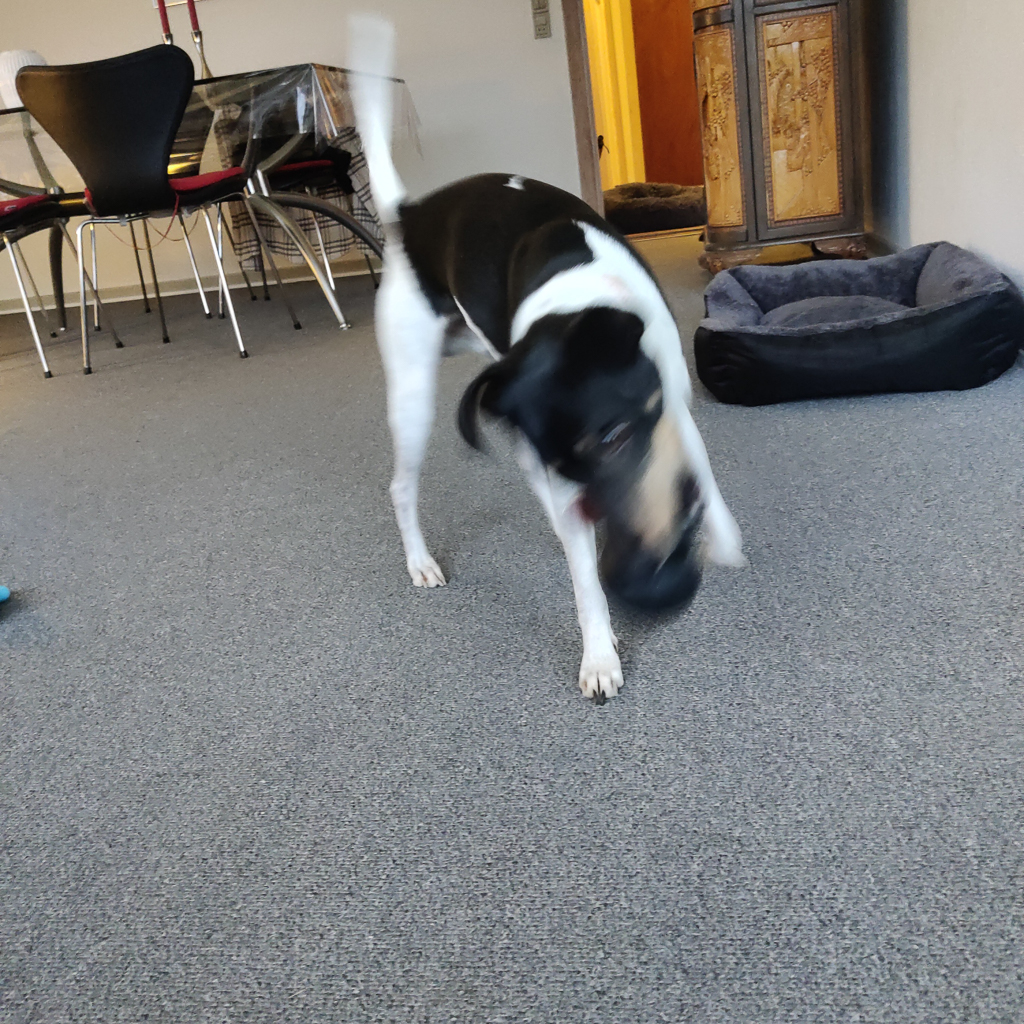Dog: (331, 7, 798, 721)
